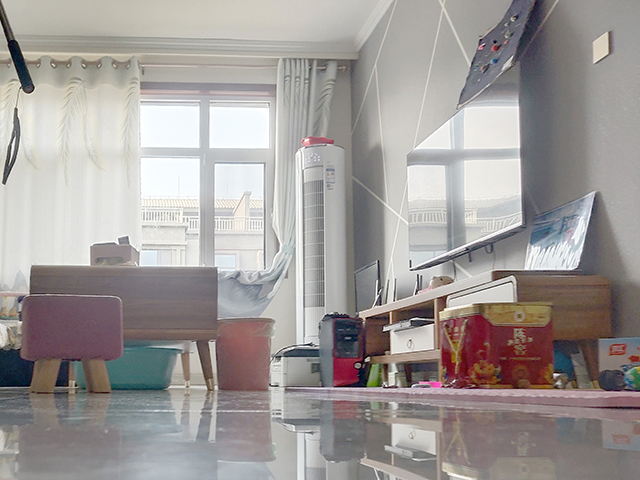cabinet: (352, 266, 616, 393)
curtain: (2, 60, 144, 266)
stool: (19, 292, 125, 395)
table: (28, 262, 221, 392)
trashcan: (213, 316, 279, 392)
